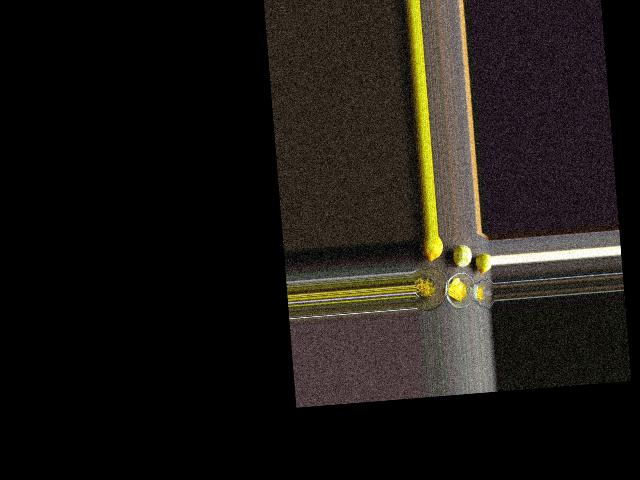lemon: (421, 237, 443, 265)
